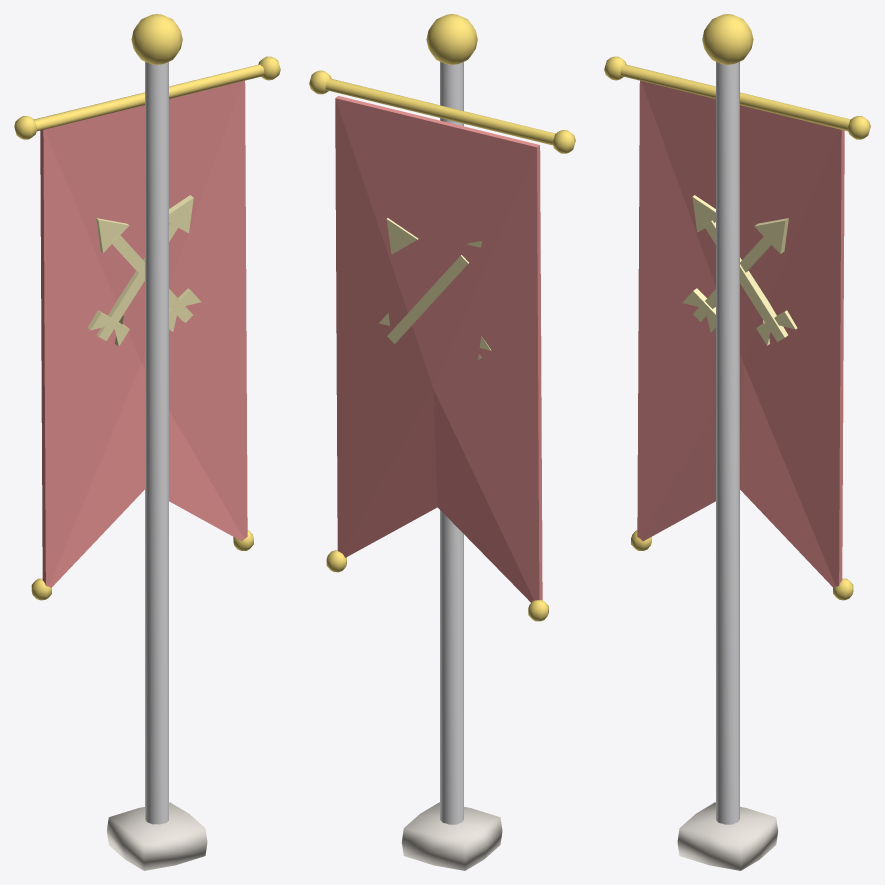
The model's file is ArrowAmbushBanner.glb.
3 renders of one model, left to right at view 1: azimuth 30°, elevation 25°; view 2: azimuth 150°, elevation 25°; view 3: azimuth 330°, elevation 25°, orthographic.
Visible parts, largest first — view 1: Cloth, Pole, Gold, Foot, Emblem; view 2: Cloth, Pole, Gold, Foot, Emblem; view 3: Cloth, Pole, Gold, Foot, Emblem.
Boxes of the visible parts, bbox=[...] form: Cloth: bbox=[40, 80, 247, 587]; Pole: bbox=[145, 62, 168, 824]; Gold: bbox=[14, 14, 280, 600]; Foot: bbox=[107, 802, 207, 870]; Emblem: bbox=[87, 195, 201, 346]; Cloth: bbox=[335, 96, 542, 602]; Pole: bbox=[440, 62, 463, 824]; Gold: bbox=[309, 14, 575, 621]; Foot: bbox=[401, 802, 502, 870]; Emblem: bbox=[379, 218, 491, 359]; Cloth: bbox=[637, 80, 844, 587]; Pole: bbox=[716, 62, 739, 824]; Gold: bbox=[604, 14, 870, 600]; Foot: bbox=[677, 802, 777, 870]; Emblem: bbox=[682, 195, 797, 345].
Bounding box in the file's own units: 3.8 × 11.52 × 1.
